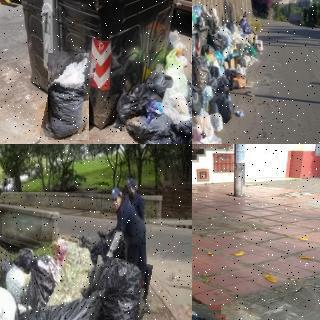Garbage: (44, 52, 93, 142), (83, 257, 148, 320), (15, 295, 108, 320), (119, 110, 179, 144), (114, 85, 157, 125), (26, 265, 53, 307), (12, 247, 37, 269), (216, 92, 233, 120)
